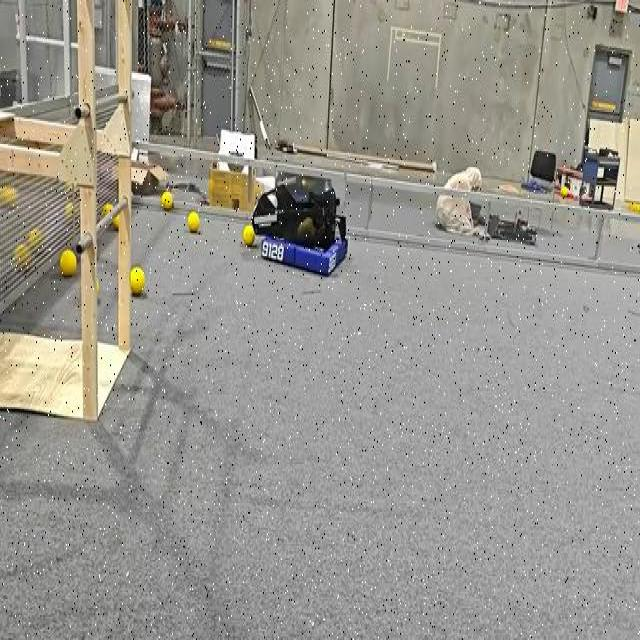Fuel: (60, 249, 76, 277), (59, 249, 76, 275), (130, 267, 144, 293), (14, 244, 30, 266), (28, 228, 43, 250), (29, 228, 42, 252), (242, 224, 255, 247), (242, 225, 255, 246), (187, 211, 200, 232), (187, 212, 199, 231), (161, 190, 172, 208), (560, 185, 568, 195)
